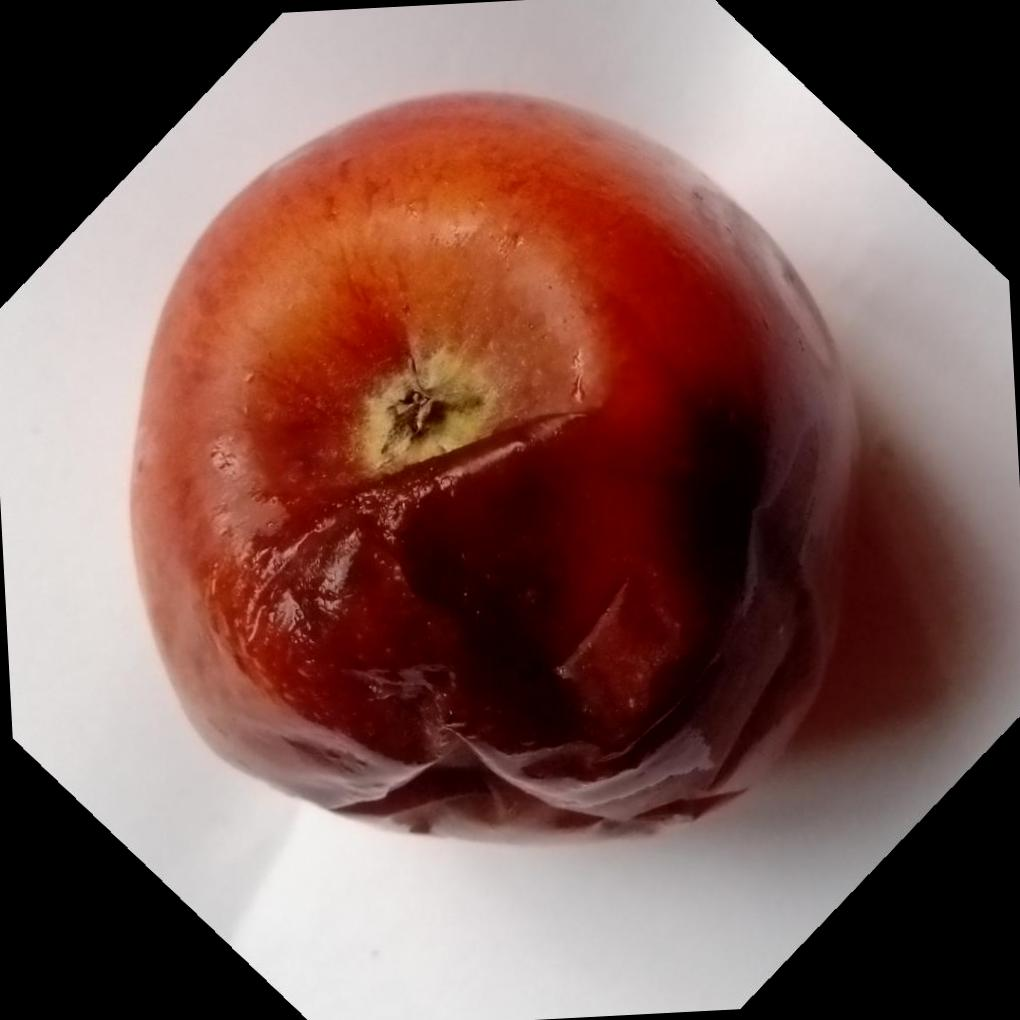FreshOrange: (127, 85, 858, 844)
